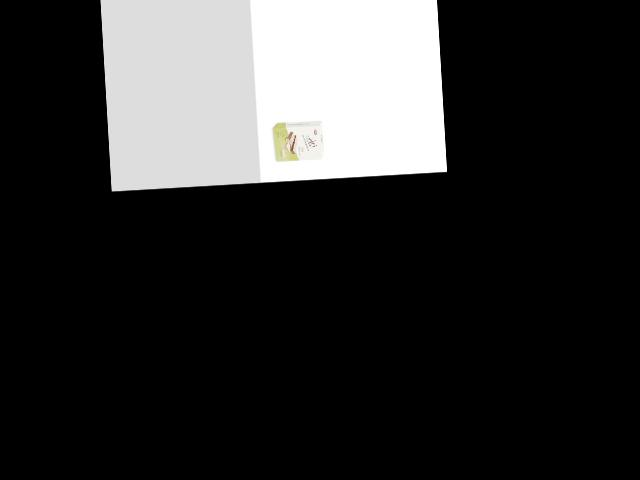chocolate: (269, 117, 325, 166)
